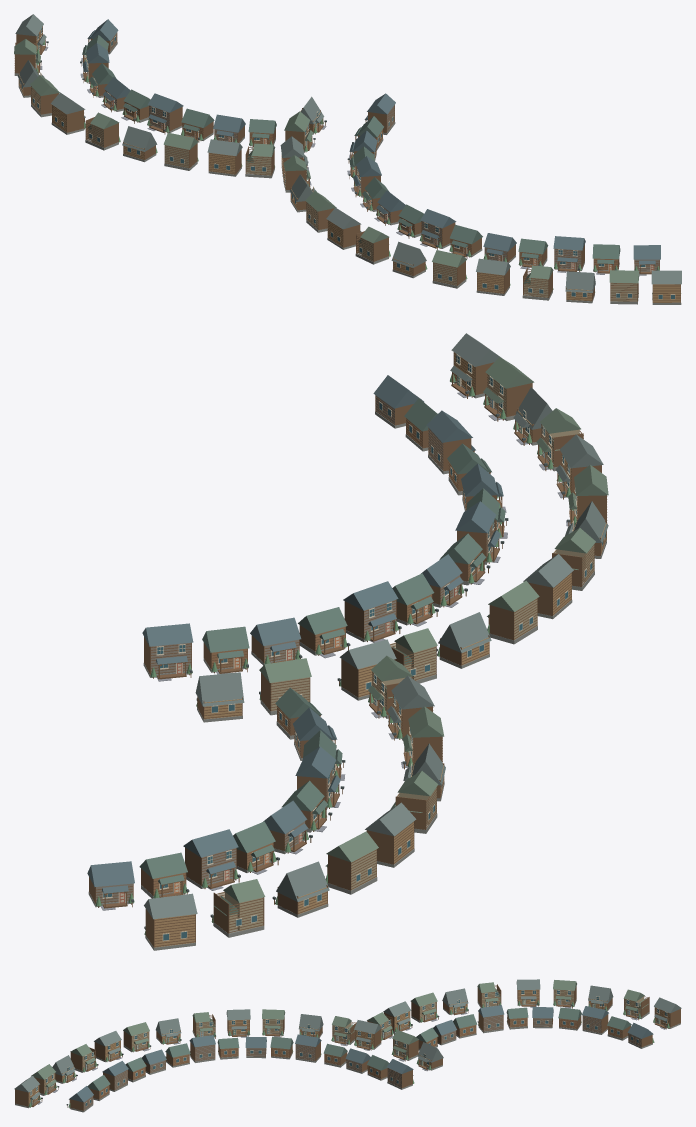
The model's file is eastbank-village.glb.
3 renders of one model, top to bottom at view 1: azimuth 30°, elevation 25°; view 2: azimuth 150°, elevation 25°; view 3: azimuth 270°, elevation 25°, orthographic. The views are drawn at different scales.
Parts seen in each view (by area): view 1: river_house_05.025, river_house_02.025, river_house_05.022, river_house_07.025, river_house_07.022, river_house_02.022, river_house_02.021, river_house_05.026, river_house_05.021, river_house_03.026, river_house_05.023, river_house_03.023 (+35 smaller); view 2: river_house_02.023, river_house_02.026, river_house_05.027, river_house_02.024, river_house_03.027, river_house_07.026, river_house_07.023, river_house_01.026, river_house_05.026, river_house_01.023, river_house_07.021, river_house_01.024 (+36 smaller); view 3: river_house_05.024, river_house_05.027, river_house_07.022, river_house_05.022, river_house_07.025, river_house_07.024, river_house_05.021, river_house_02.026, river_house_03.027, river_house_02.023, river_house_02.025, river_house_02.022 (+38 smaller).
Boxes of the visible parts, x1,y1,x2,y2 form: river_house_05.025: [207, 139, 242, 176]; river_house_02.025: [147, 93, 183, 134]; river_house_05.022: [476, 258, 510, 295]; river_house_07.025: [163, 132, 198, 170]; river_house_07.022: [432, 250, 467, 288]; river_house_02.022: [419, 209, 456, 249]; river_house_02.021: [553, 236, 585, 272]; river_house_05.026: [51, 92, 85, 134]; river_house_05.021: [651, 270, 681, 304]; river_house_03.026: [85, 112, 120, 150]; river_house_05.023: [326, 207, 361, 249]; river_house_03.023: [355, 226, 390, 264]; river_house_02.023: [343, 581, 401, 642]; river_house_02.026: [183, 829, 240, 890]; river_house_05.027: [144, 893, 197, 950]; river_house_02.024: [142, 623, 193, 681]; river_house_03.027: [210, 879, 265, 937]; river_house_07.026: [324, 831, 378, 894]; river_house_07.023: [487, 580, 539, 644]; river_house_01.026: [272, 861, 329, 917]; river_house_05.026: [365, 802, 416, 867]; river_house_01.023: [436, 612, 491, 668]; river_house_07.021: [483, 357, 534, 421]; river_house_01.024: [195, 672, 244, 722]; river_house_05.024: [354, 1020, 381, 1050]; river_house_05.027: [653, 997, 681, 1029]; river_house_07.022: [123, 1022, 151, 1052]; river_house_05.022: [94, 1031, 123, 1062]; river_house_07.025: [410, 992, 439, 1022]; river_house_07.024: [391, 1030, 418, 1061]; river_house_05.021: [14, 1076, 42, 1108]; river_house_02.026: [582, 1006, 608, 1034]; river_house_03.027: [623, 989, 649, 1020]; river_house_02.023: [295, 1034, 321, 1062]; river_house_02.025: [477, 1005, 504, 1033]; river_house_02.022: [189, 1035, 215, 1062].
Bounding box in the file's own units: 85.72 × 9.37 × 208.
